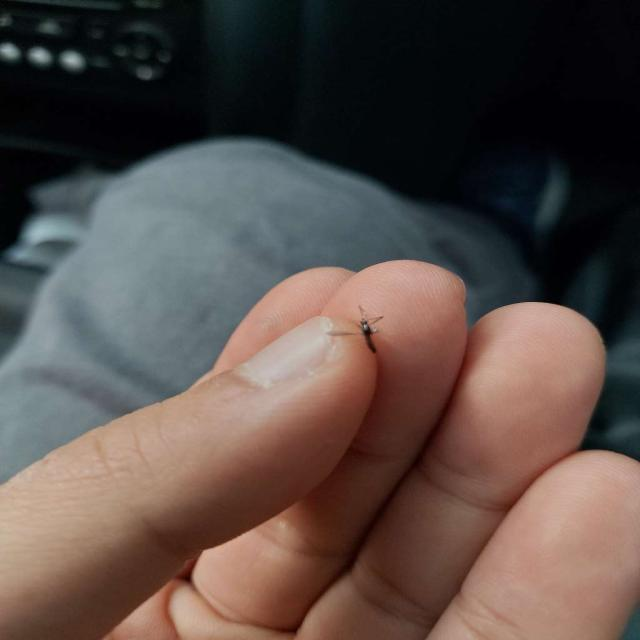albopictus: (328, 300, 392, 356)
